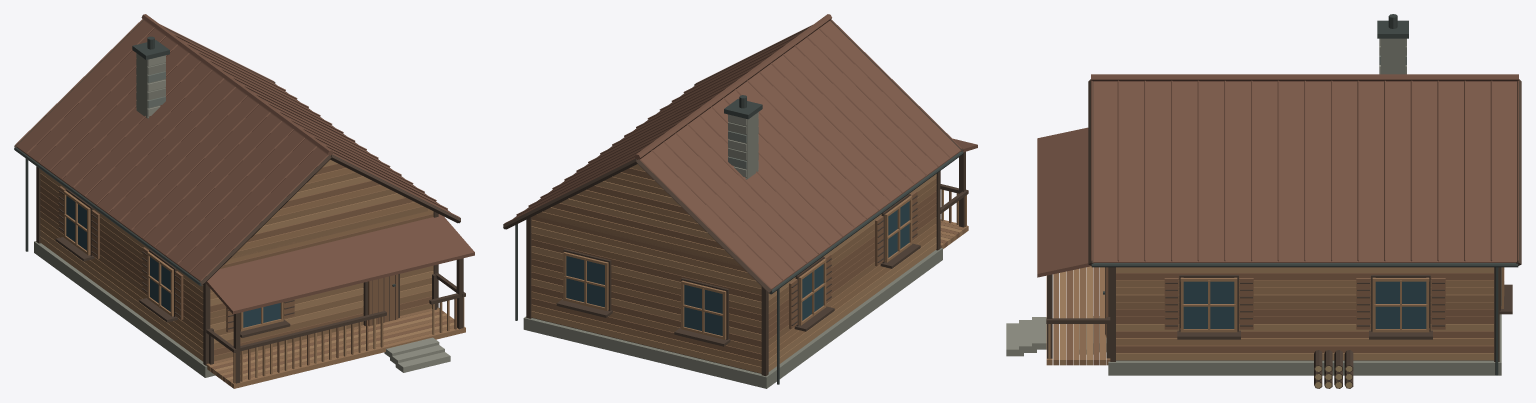
Rendered from 01_cabana_alerce.glb.
3 renders of one model, left to right at view 1: azimuth 30°, elevation 25°; view 2: azimuth 150°, elevation 25°; view 3: azimuth 270°, elevation 25°, orthographic. The views are drawn at different scales.
Parts seen in each view (by area): view 1: 01_cabana_alerce; view 2: 01_cabana_alerce; view 3: 01_cabana_alerce.
Boxes of the visible parts, x1,y1,x2,y2 form: 01_cabana_alerce: [14, 14, 474, 388]; 01_cabana_alerce: [503, 14, 977, 388]; 01_cabana_alerce: [1006, 14, 1521, 388].
Bounding box in the file's own units: 8.18 × 6.6 × 11.56.
